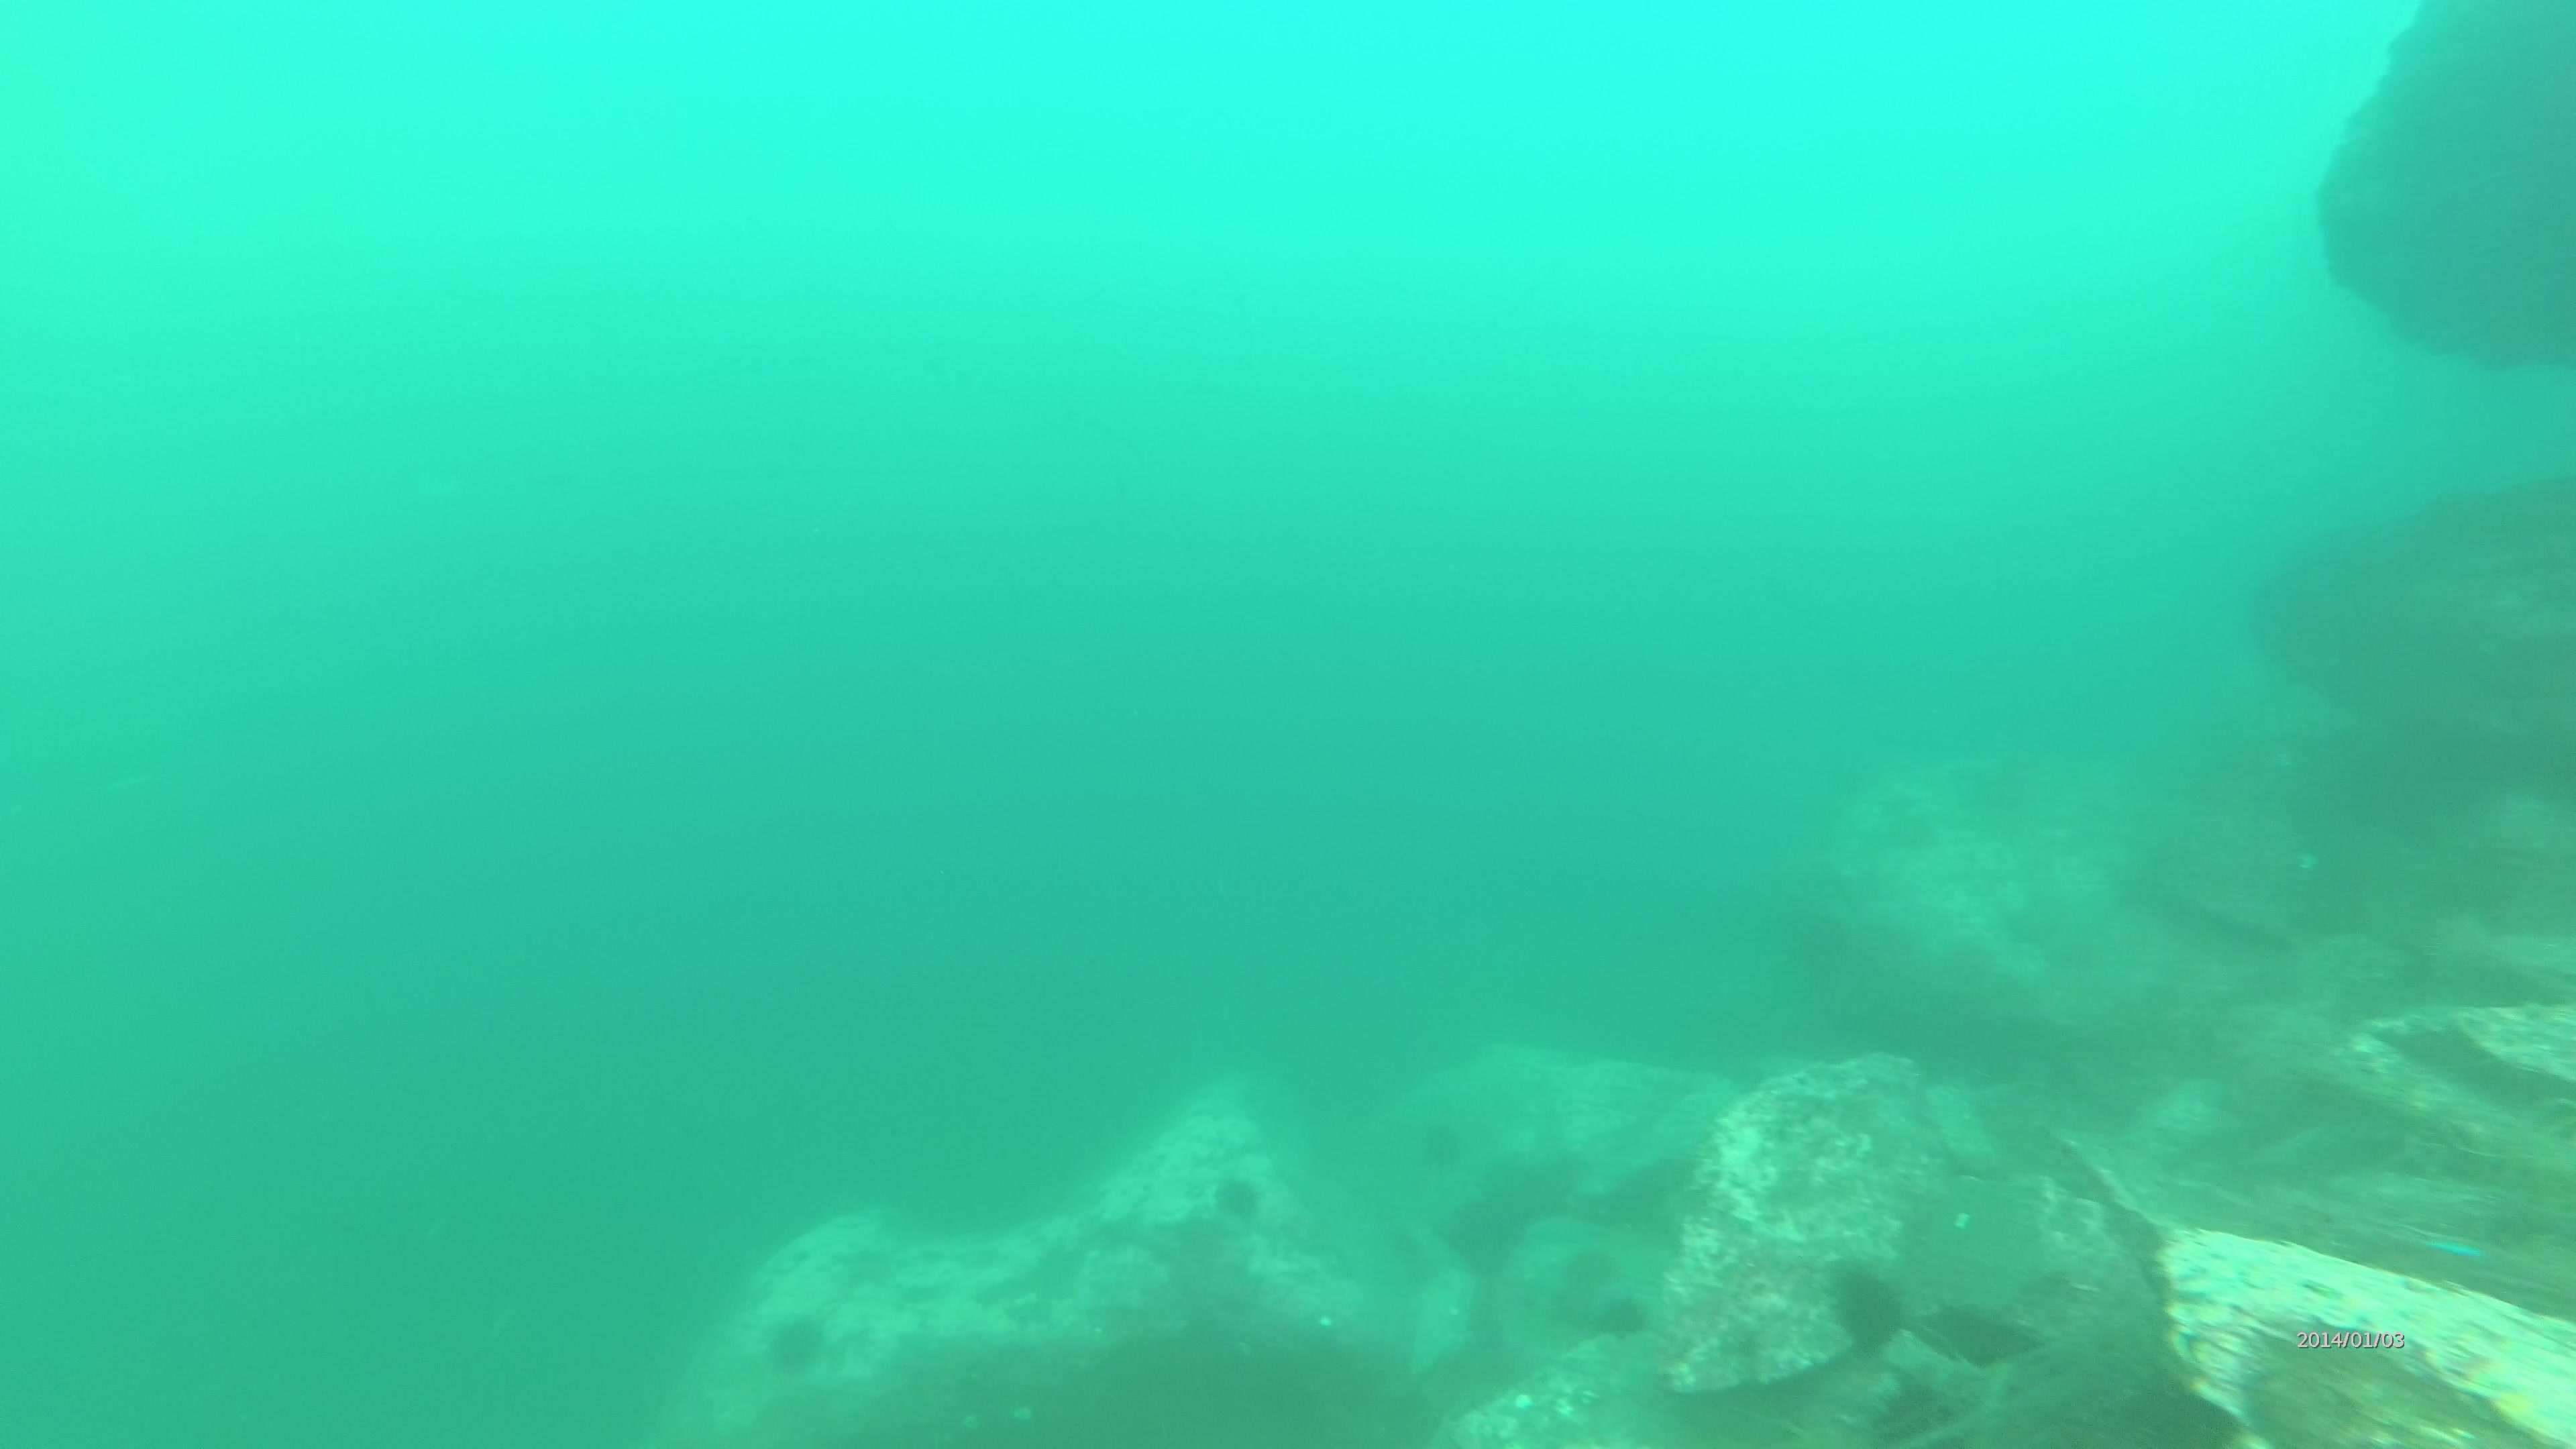echinus: (1932, 1300, 2045, 1373), (1829, 1261, 1898, 1350), (761, 1309, 830, 1376), (1585, 1292, 1654, 1343), (1210, 1169, 1267, 1224)
